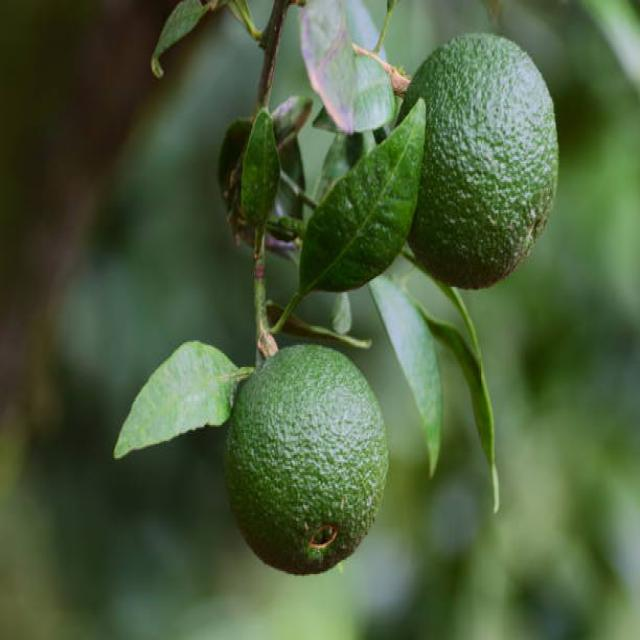Unripe: (398, 34, 560, 290), (218, 344, 389, 574)
